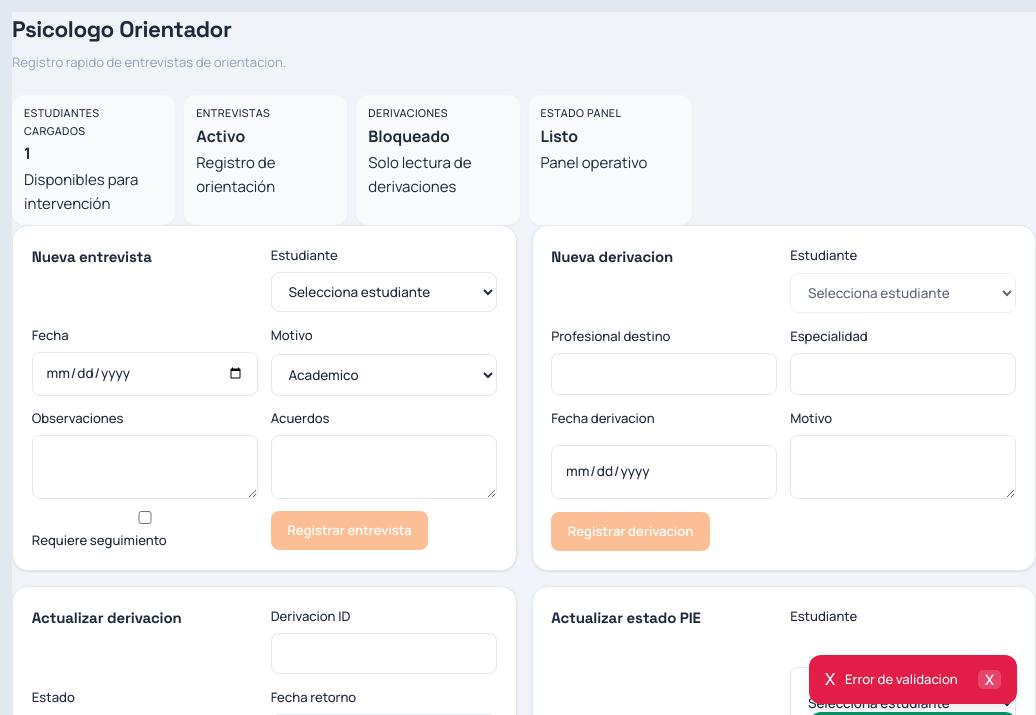
Test: PsicologoOrientadorPage › shows saving state while entrevista request is in progress
This screenshot has width=1036, height=715.
Select "Nina Soto" in the dropdown labelled "Estudiante" below "Nueva entrevista": point(384, 292) x1=271 y1=272 x2=497 y2=312
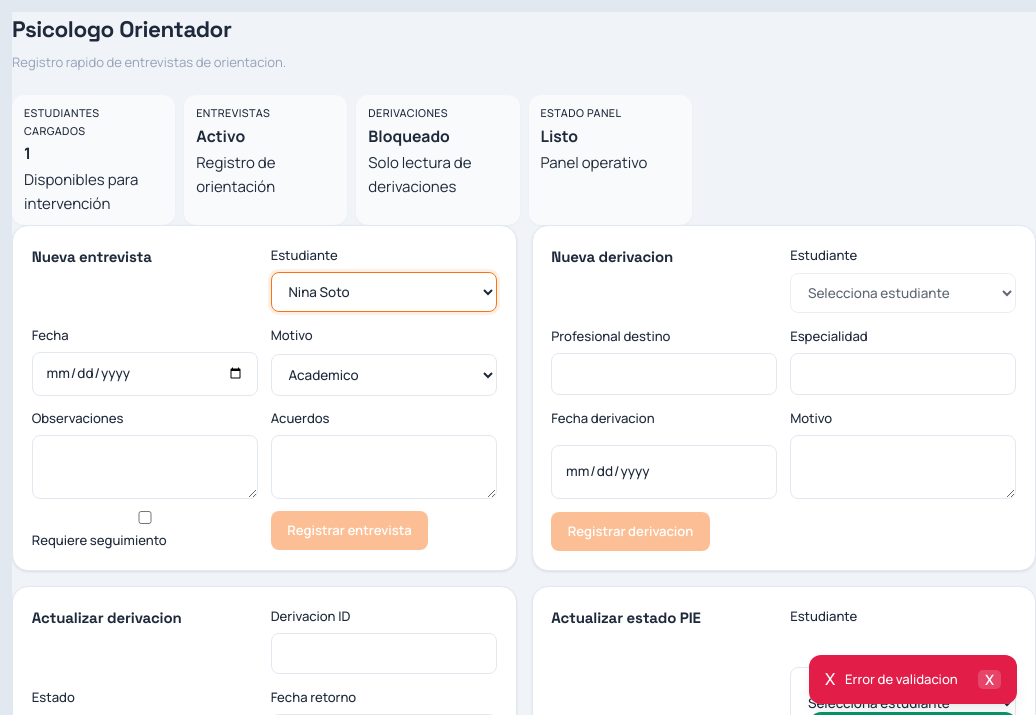
In the date field labelled "Fecha": point(145, 374) x1=32 y1=352 x2=258 y2=396, type "2026-03-06"
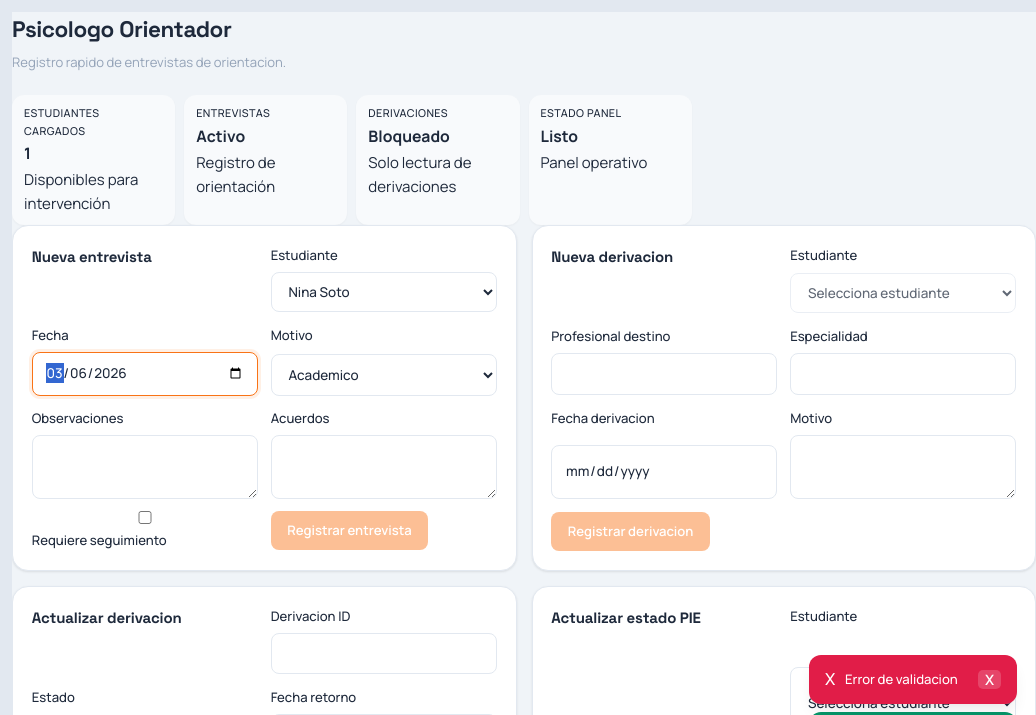
In the text box labelled "Observaciones": point(145, 467) x1=32 y1=435 x2=258 y2=498, type "Seguimiento academico inicial"
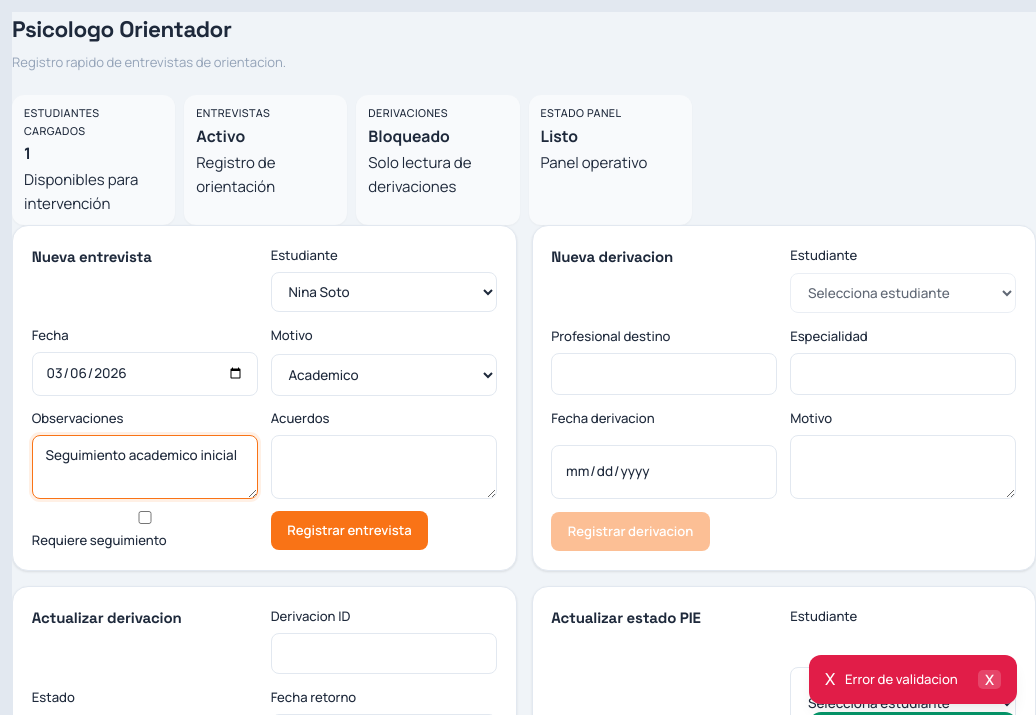
Click the button "Registrar entrevista": point(349, 531) x1=271 y1=511 x2=428 y2=550
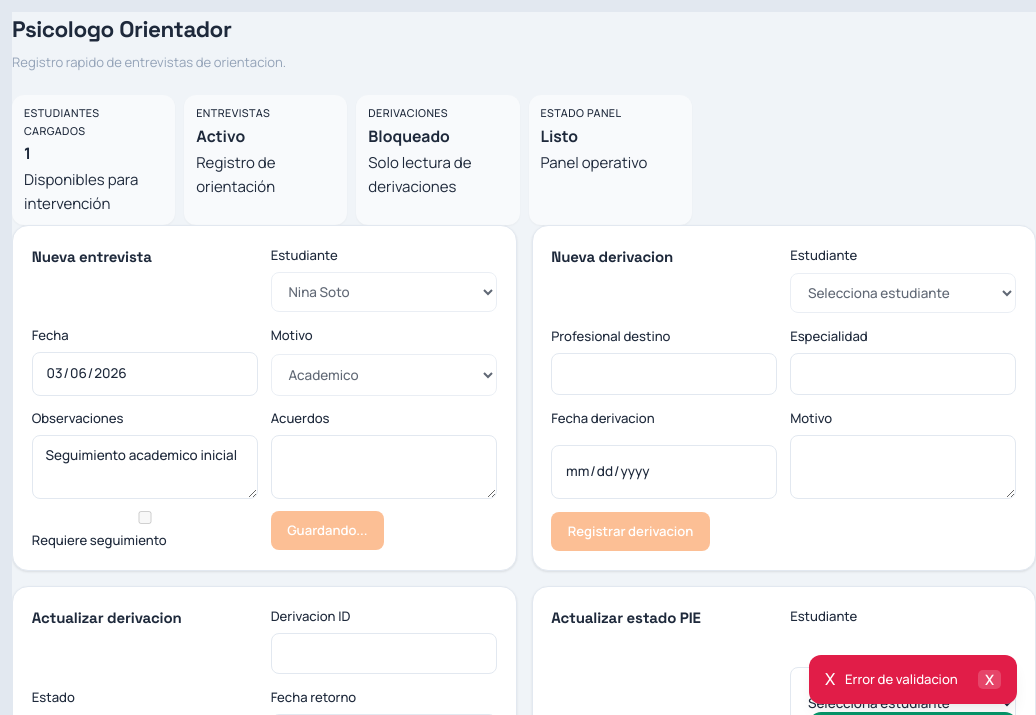
Expected: the button "Guardando..." is disabled, x1=271 y1=511 x2=384 y2=550
